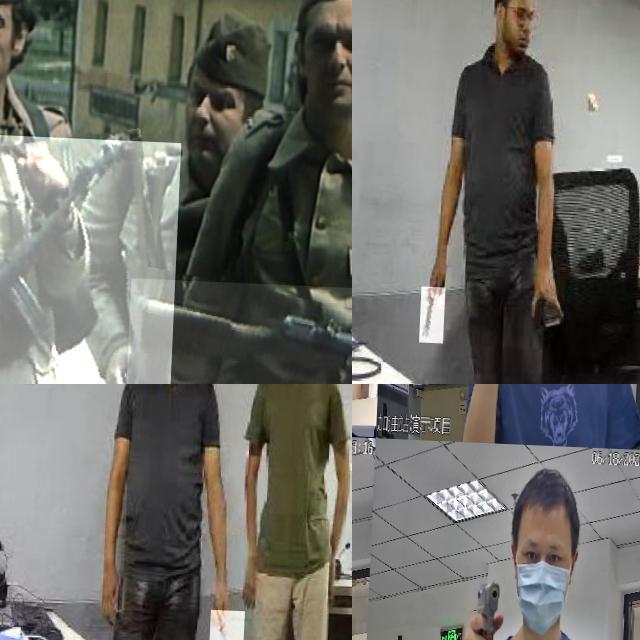-: (424, 284, 450, 340), (213, 606, 250, 640)
gun-knife-thesis - v11 Yolov5 augmented: (0, 127, 184, 384), (130, 275, 352, 384), (480, 384, 540, 447), (474, 569, 505, 640), (352, 384, 374, 455), (352, 544, 368, 640)
